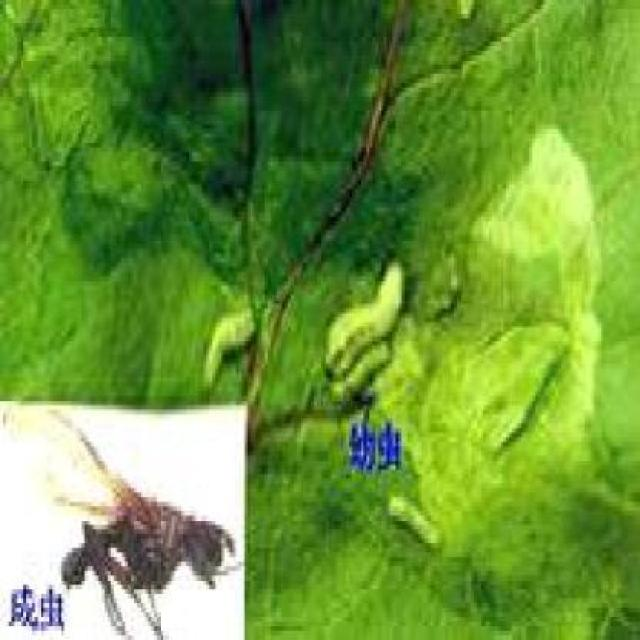whorl-maggot: (320, 252, 411, 406), (193, 279, 264, 398), (383, 481, 445, 562)
